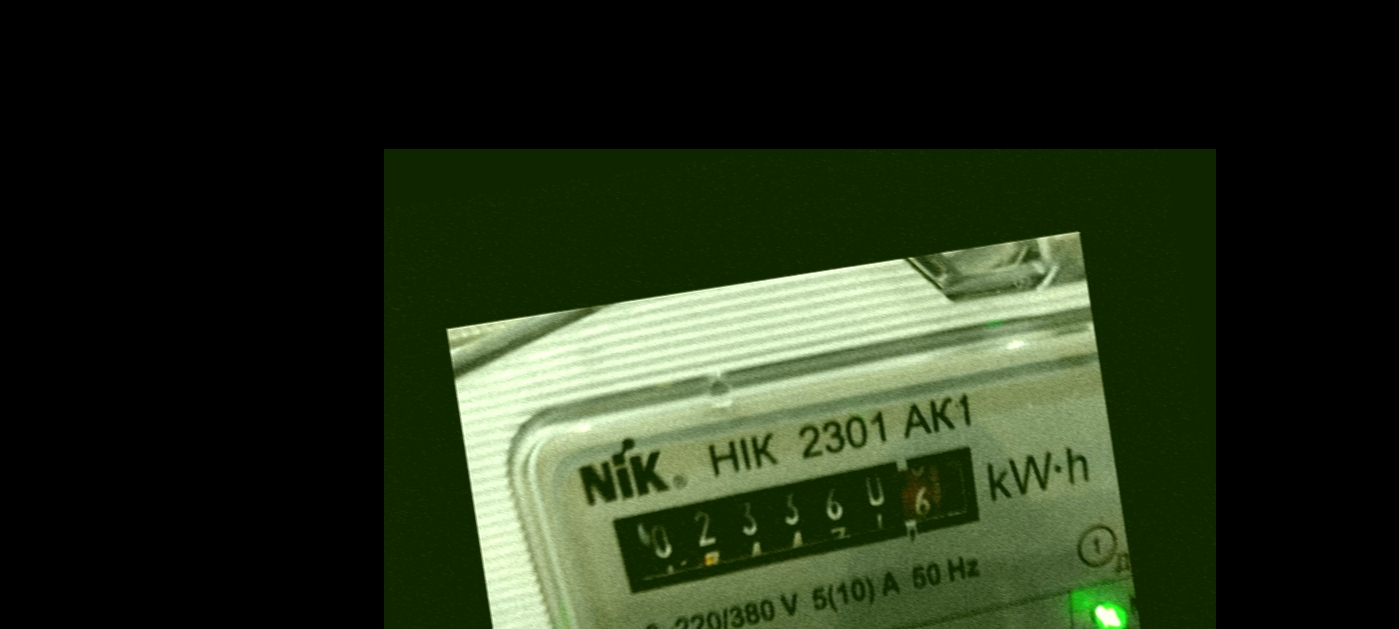0: (646, 518, 677, 563), (861, 470, 889, 510)
2: (688, 505, 720, 549)
3: (776, 488, 803, 529), (735, 497, 761, 539)
6: (817, 481, 849, 526), (910, 482, 937, 521)
screen: (586, 430, 1001, 608)
